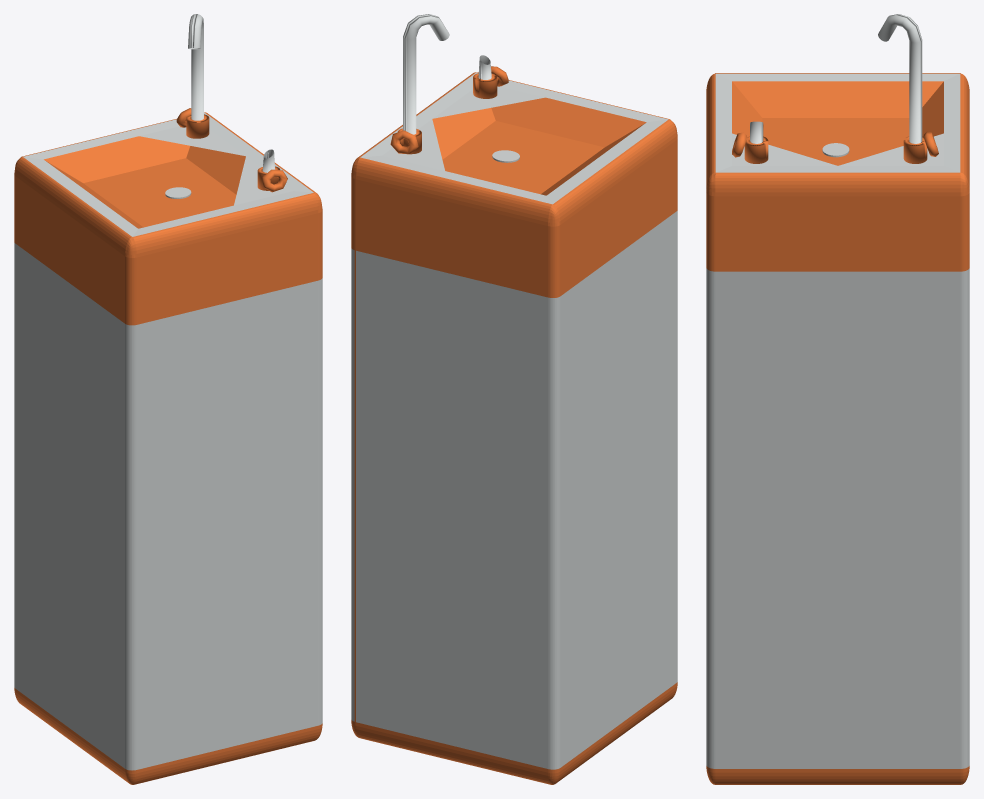
File: bebedouro - Copia.fbx
The picture shows the model from 3 angles, left to right: view 1: azimuth 30°, elevation 25°; view 2: azimuth 150°, elevation 25°; view 3: azimuth 270°, elevation 25°; orthographic projection. The views are drawn at different scales.
Parts seen in each view (by area): view 1: Bebedouro; view 2: Bebedouro; view 3: Bebedouro.
Part boxes in pixels (box(x1,y1,x2,y2)): Bebedouro: box(14, 14, 322, 784); Bebedouro: box(351, 14, 677, 784); Bebedouro: box(706, 14, 969, 784).
Bounding box in the file's own units: 42.96 × 140 × 44.62.
